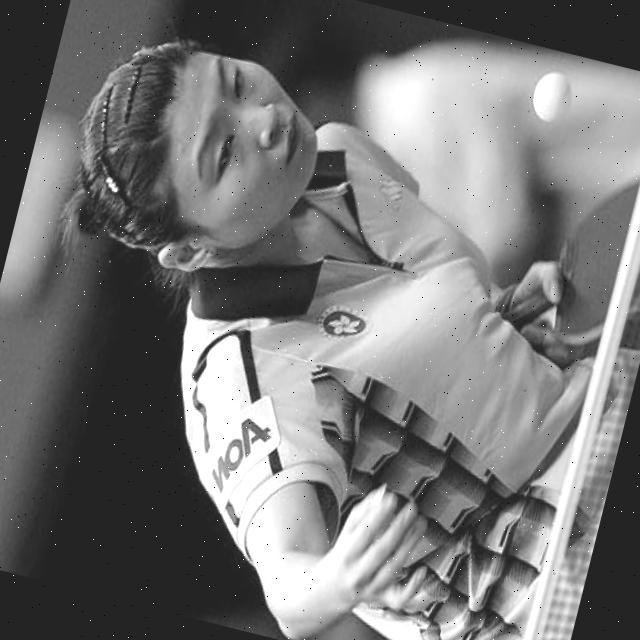ping-pong-ball: (527, 66, 576, 126)
